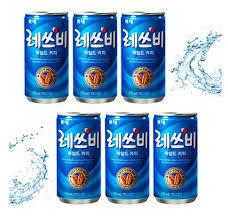letsbe: (52, 112, 101, 204), (122, 11, 168, 103), (74, 11, 119, 104), (106, 113, 150, 204), (26, 12, 68, 105), (156, 112, 198, 204)
